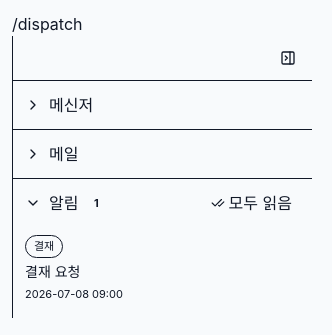
Scenario: CommsRail › marks a notification read and navigates to its target on click
Click the text "결재 요청".
click(53, 272)  # box [25, 262, 80, 282]
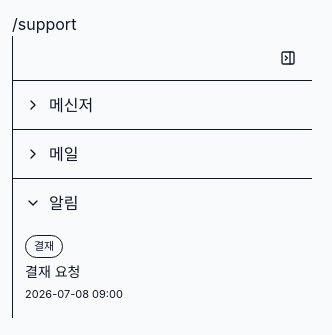
Result: the text with test id "pathname" reads "/support" at [12, 14, 76, 34]
